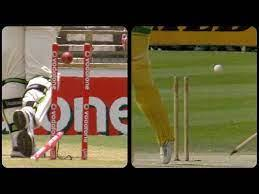stumps: (31, 33, 94, 162), (171, 71, 192, 162), (230, 131, 258, 156)
